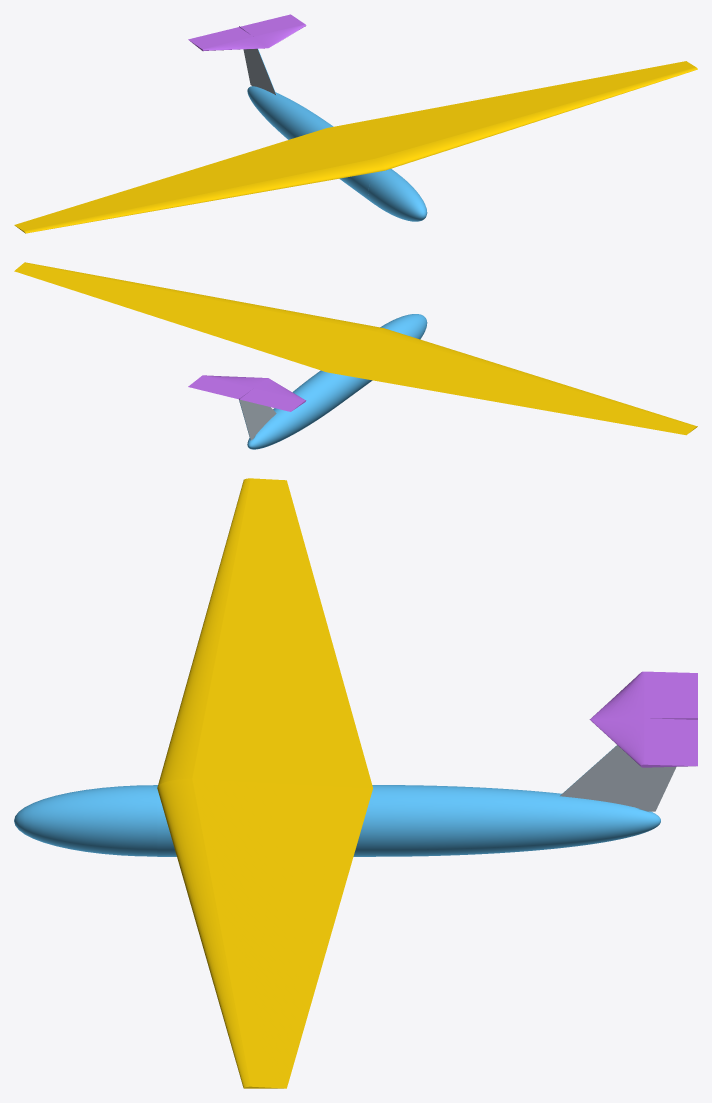
File: Glider.gltf
3 renders of one model, top to bottom at view 1: azimuth 30°, elevation 25°; view 2: azimuth 150°, elevation 25°; view 3: azimuth 270°, elevation 25°, orthographic. The views are drawn at different scales.
Parts seen in each view (by area): view 1: node1, node4, node5, node3; view 2: node1, node4, node5, node3; view 3: node1, node4, node5, node3.
Boxes of the visible parts, left/top/right/bottom form: node1: left=14, top=61, right=697, bottom=233; node4: left=247, top=49, right=427, bottom=221; node5: left=188, top=14, right=306, bottom=51; node3: left=243, top=48, right=275, bottom=94; node1: left=14, top=262, right=697, bottom=435; node4: left=239, top=314, right=427, bottom=449; node5: left=188, top=375, right=306, bottom=411; node3: left=239, top=400, right=276, bottom=440; node1: left=157, top=478, right=372, bottom=1088; node4: left=14, top=745, right=660, bottom=856; node5: left=589, top=671, right=697, bottom=767; node3: left=560, top=745, right=676, bottom=811.
Bounding box in the file's own units: 40 × 4.15 × 19.01.
